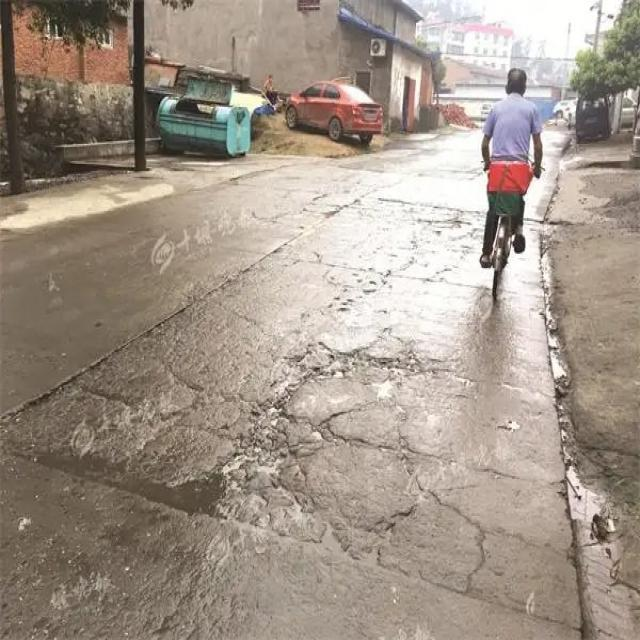pothole: (19, 409, 378, 557), (276, 344, 434, 397), (390, 201, 475, 290)
